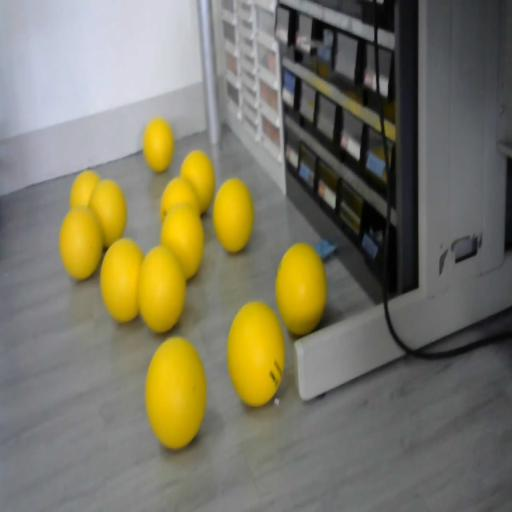FUEL: (144, 335, 207, 447), (226, 299, 286, 406), (275, 242, 327, 336), (99, 238, 144, 322), (160, 202, 205, 280), (59, 205, 103, 281), (212, 178, 254, 252), (180, 150, 217, 214), (142, 118, 174, 172), (70, 170, 102, 210)
